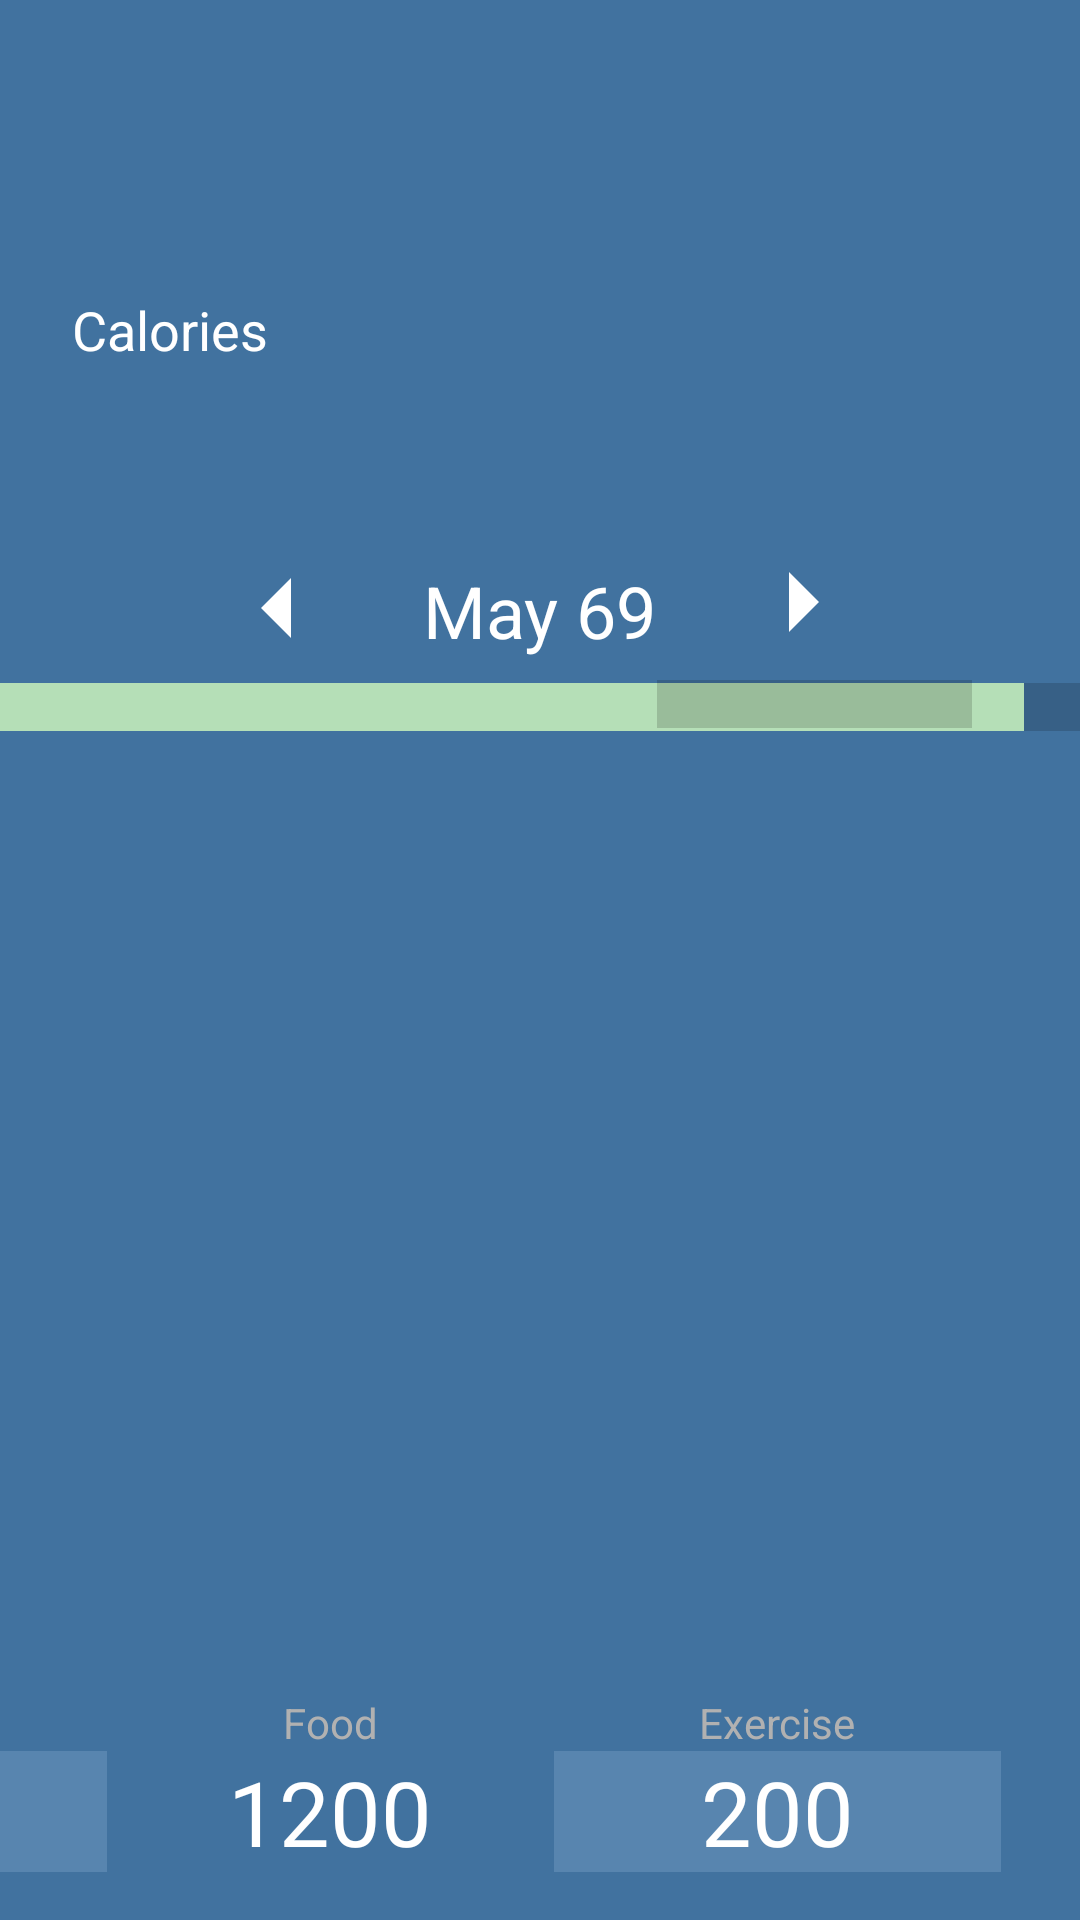

Icon click points for this 1080 × 1920 phone screenshot, format (x=x, y=y):
arrow left: (x=276, y=608)
arrow right: (x=804, y=602)
